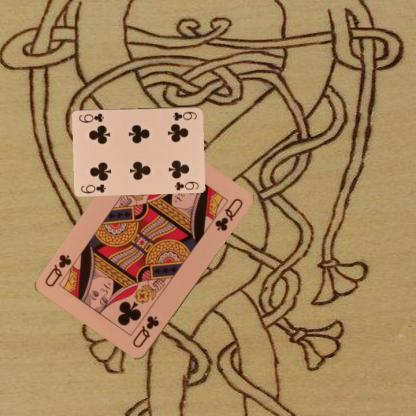6c: (78, 181, 108, 195), (171, 109, 198, 122)
Qc: (130, 313, 161, 350)
